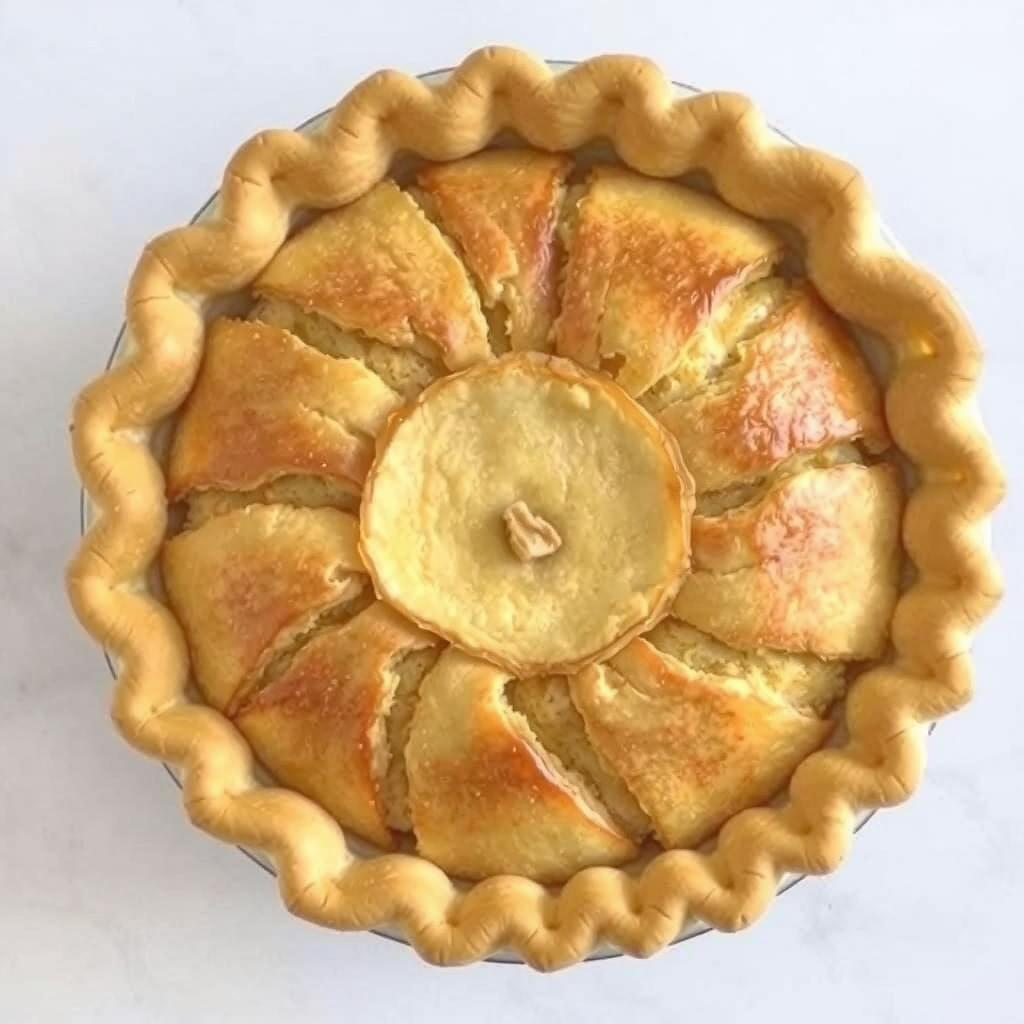pie: (51, 34, 1024, 981)
